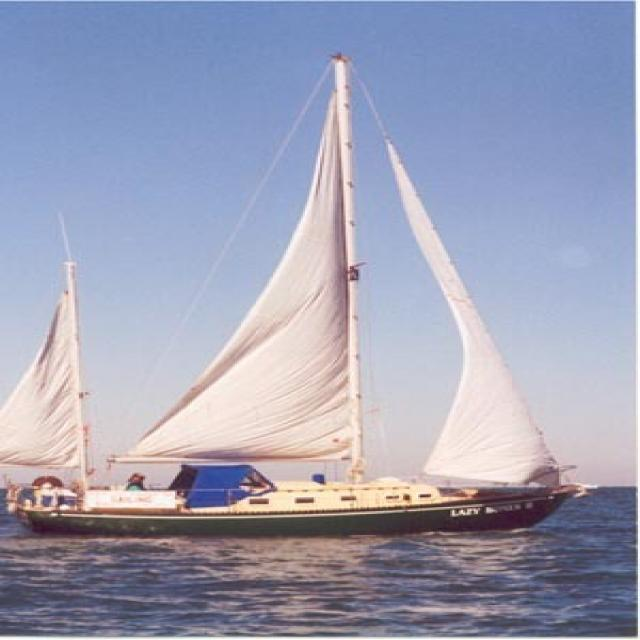Ship: (17, 62, 589, 550)
